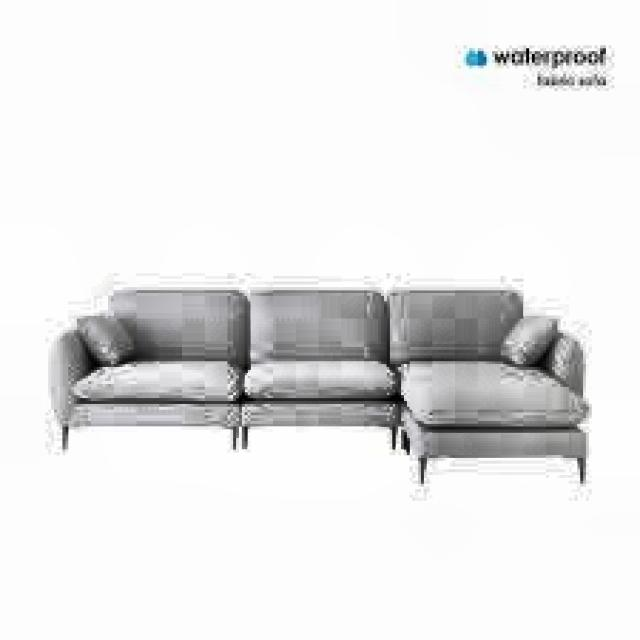sofa: (51, 290, 595, 498)
